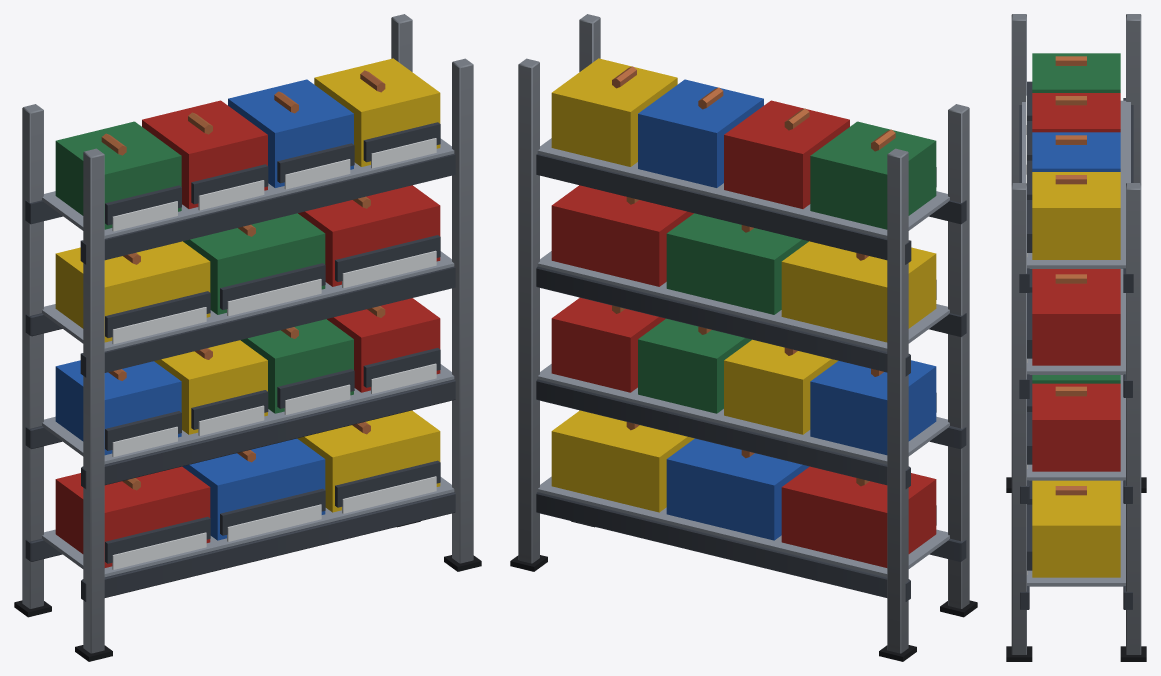
The model's file is shelving_parts_bins_rack.glb.
3 views of the same model, side by side, from view 1: azimuth 30°, elevation 25°; view 2: azimuth 150°, elevation 25°; view 3: azimuth 270°, elevation 25° (orthographic). The views are drawn at different scales.
Parts seen in each view (by area): view 1: shelving_parts_bins_rack; view 2: shelving_parts_bins_rack; view 3: shelving_parts_bins_rack.
Part boxes in pixels (x1,y1,x2,y2): shelving_parts_bins_rack: (14,14,481,661); shelving_parts_bins_rack: (510,14,977,661); shelving_parts_bins_rack: (1006,14,1146,661).
Bounding box in the file's own units: 1.64 × 2 × 0.54.
